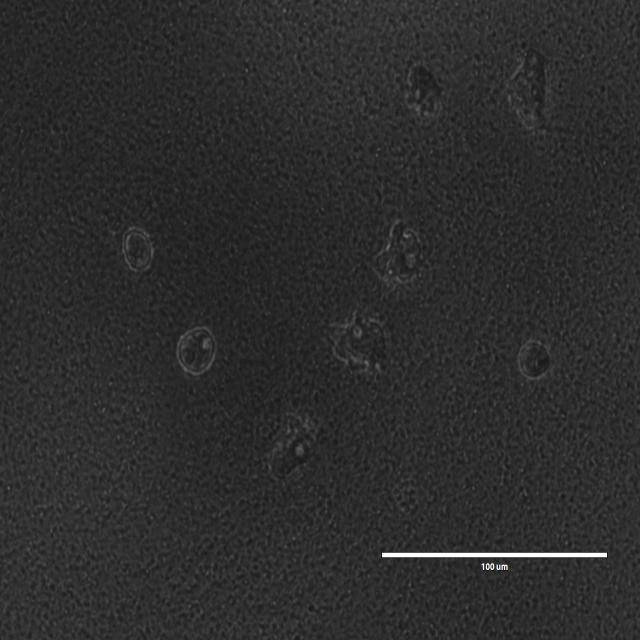Amoeba: (333, 312, 390, 372), (506, 54, 549, 132), (377, 226, 431, 288), (272, 418, 316, 476), (404, 61, 442, 118), (178, 326, 214, 374), (516, 337, 551, 382), (122, 230, 155, 273)
